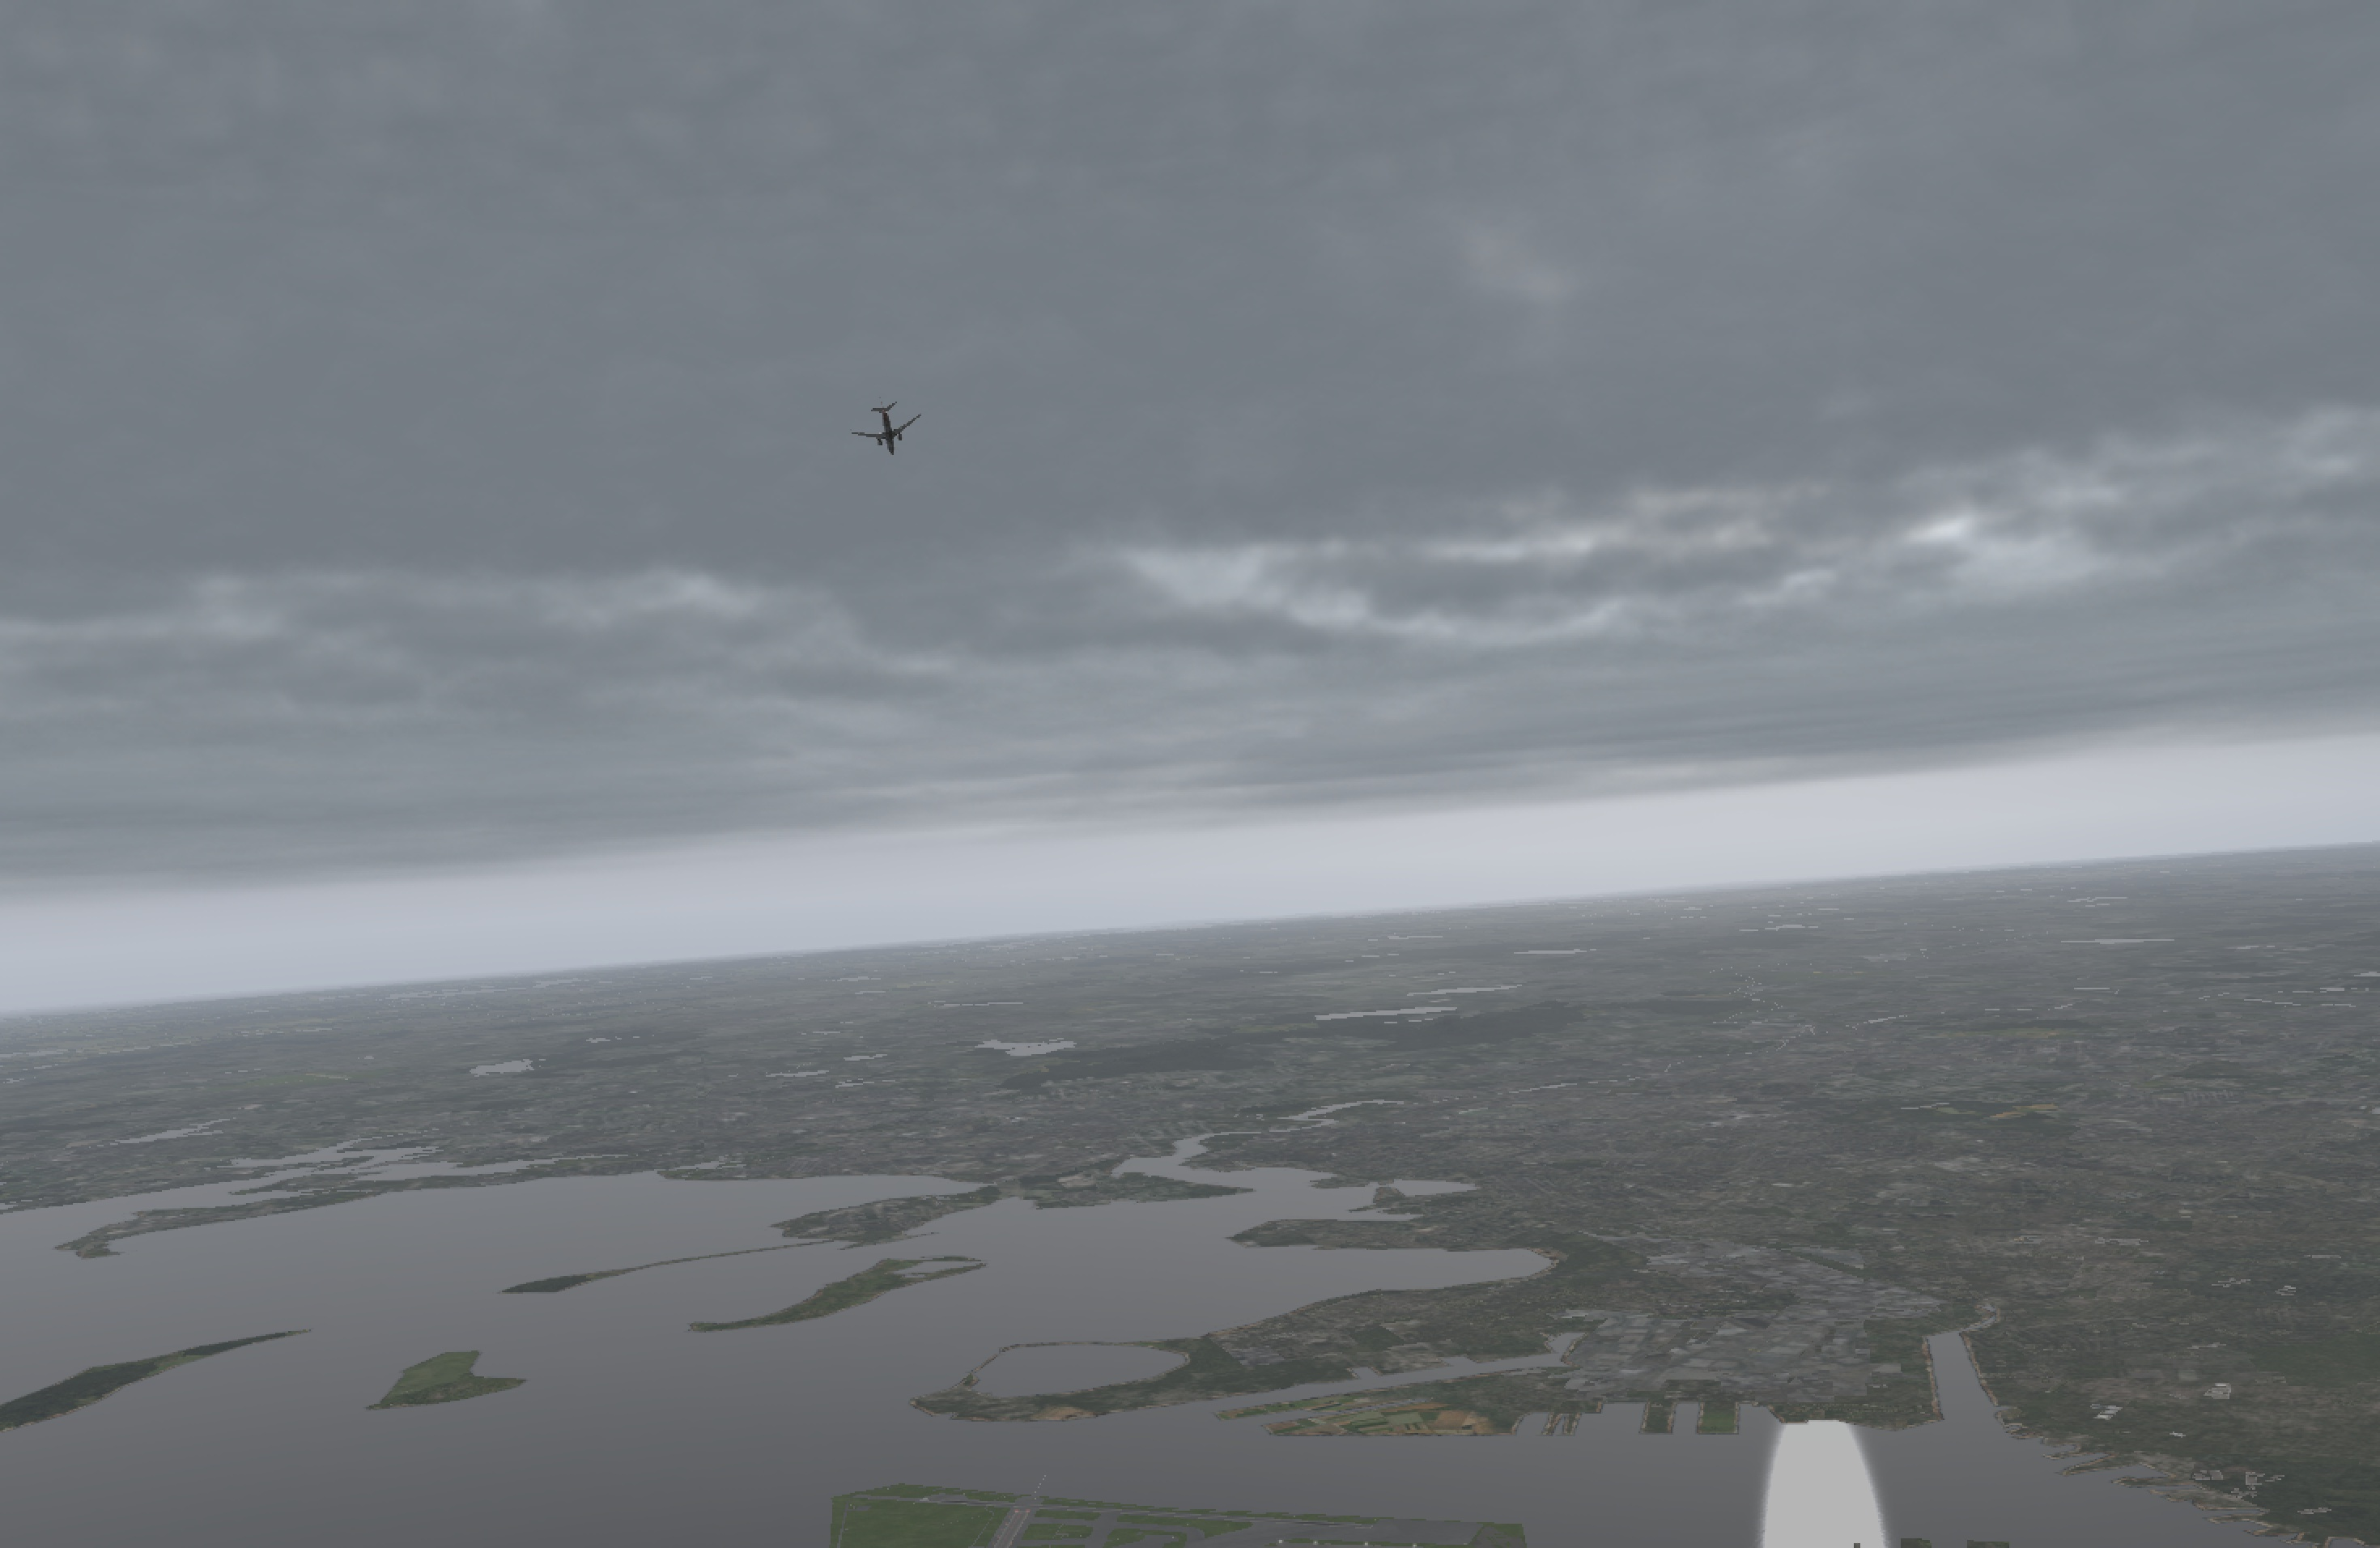aircraft: (848, 420, 928, 449)
